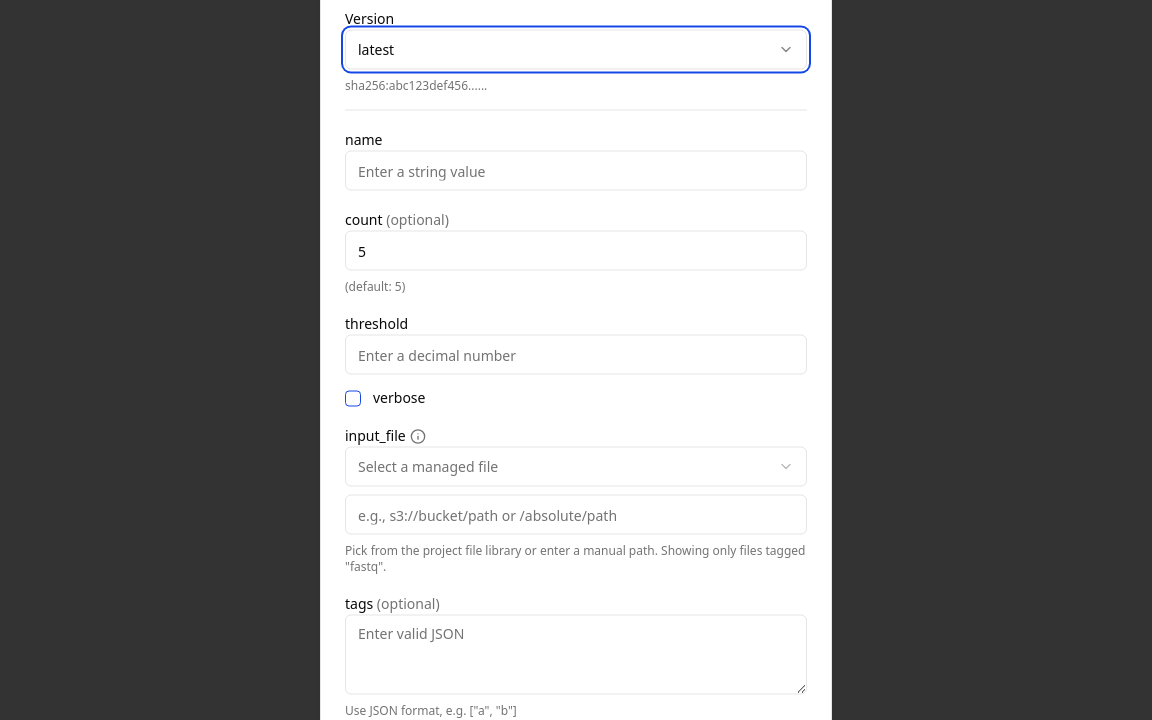
RunWorkflowDialog › renders selected managed file label-first with path context
The image size is (1152, 720).
Step 1. Type "/managed/reads.fastq.gz" into the field with placeholder "e.g., s3://bucket/path or /absolute/path" → (576, 514), box left=345, top=494, right=807, bottom=534
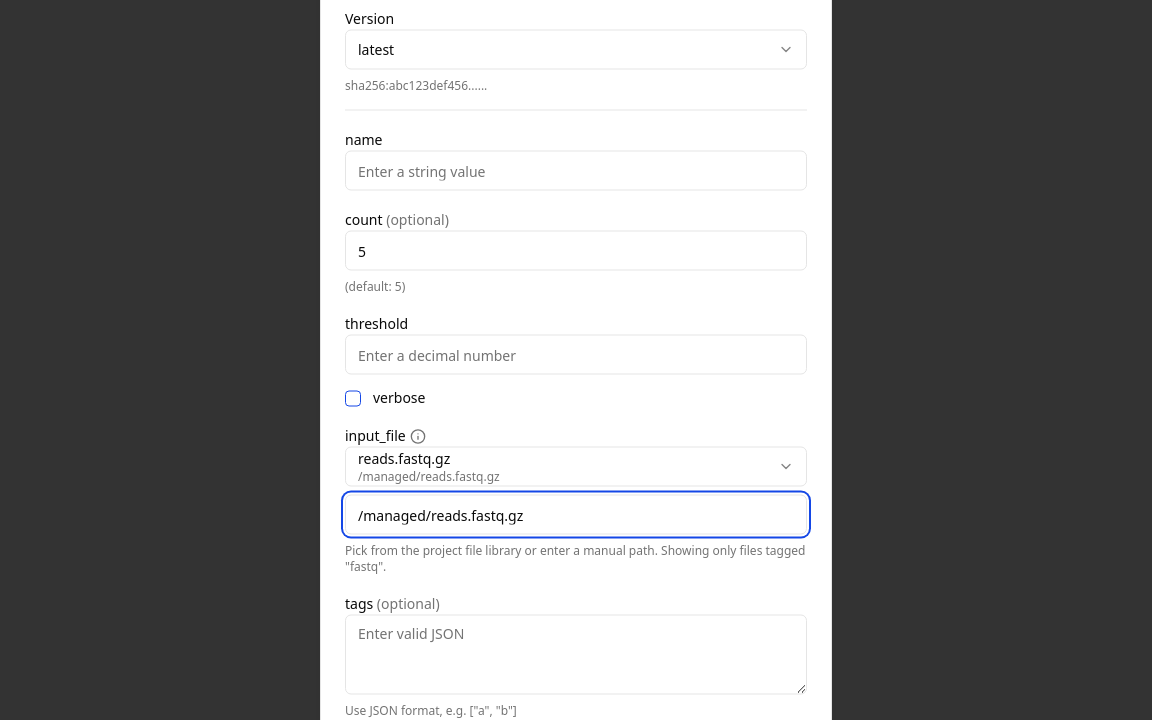
Now the text "reads.fastq.gz" is shown, box left=358, top=448, right=450, bottom=468
Now the text "/managed/reads.fastq.gz" is shown, box left=358, top=468, right=500, bottom=484
